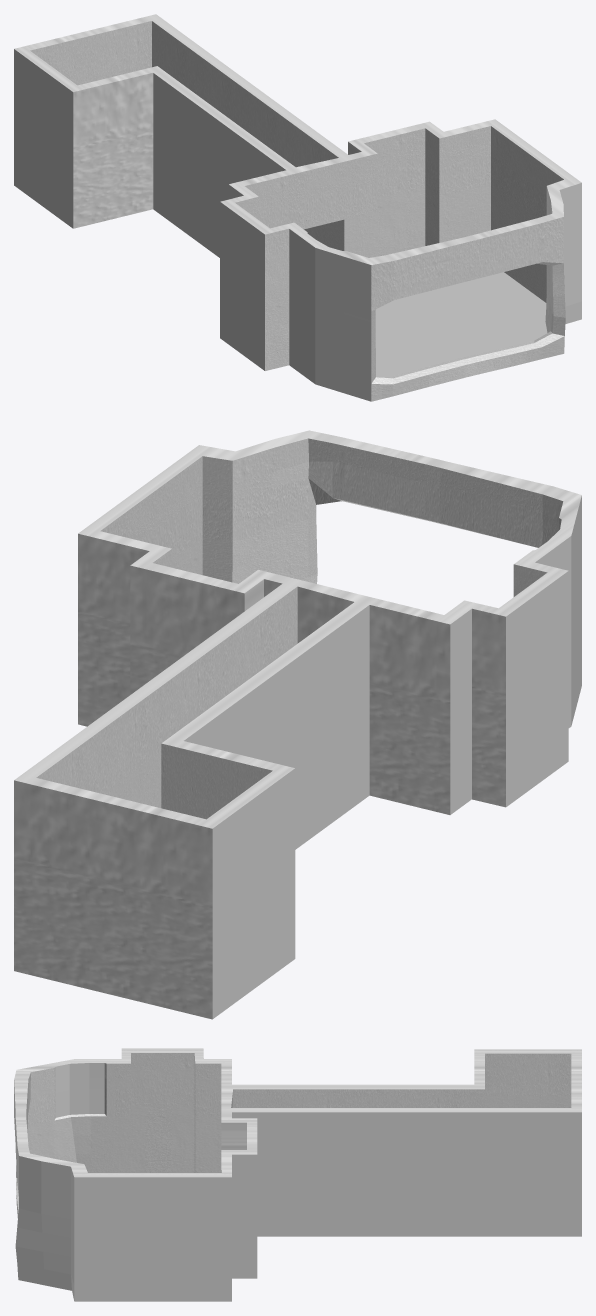
Rendered from RoomLayout.fbx.
3 renders of one model, top to bottom at view 1: azimuth 30°, elevation 25°; view 2: azimuth 150°, elevation 25°; view 3: azimuth 270°, elevation 25°, orthographic. The views are drawn at different scales.
Visible parts, largest first — view 1: Room Layour; view 2: Room Layour; view 3: Room Layour.
Boxes of the visible parts, bbox=[...] form: Room Layour: bbox=[14, 14, 581, 401]; Room Layour: bbox=[14, 430, 581, 1019]; Room Layour: bbox=[14, 1048, 581, 1301].
Size of the model in its own units: 240 by 108 by 446.
